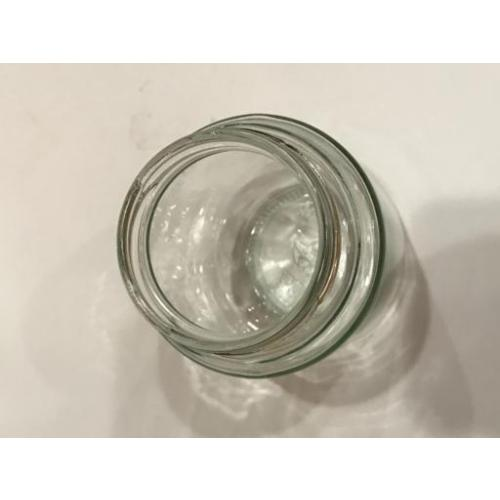glass: (115, 117, 380, 379)
